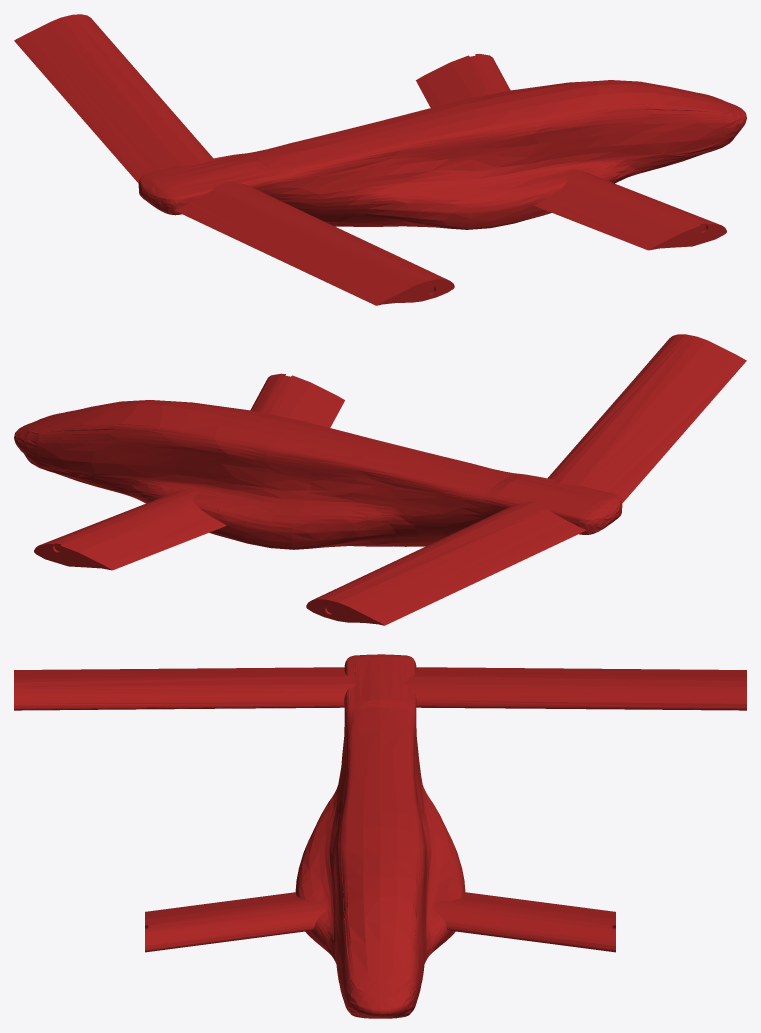
Rendered from body.dae.
3 views of the same model, one above another, from view 1: azimuth 30°, elevation 25°; view 2: azimuth 150°, elevation 25°; view 3: azimuth 270°, elevation 25° (orthographic).
Parts seen in each view (by area): view 1: Main Body; view 2: Main Body; view 3: Main Body.
Part boxes in pixels (left/top/right/bottom): Main Body: left=14, top=14, right=746, bottom=305; Main Body: left=14, top=334, right=746, bottom=625; Main Body: left=14, top=654, right=746, bottom=1018.
Size of the model in its own units: 1.04 by 1.09 by 0.1845.
